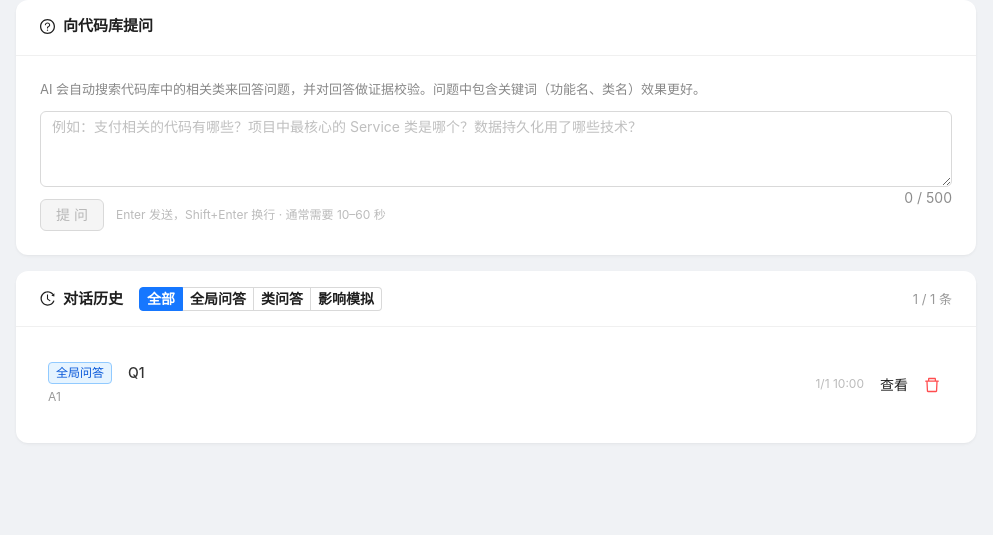
Test case: ProjectInsights › historyFilter_whenNoMatch_shouldRenderEmptyHistoryAndKeepTotalCount
The width and height of the screenshot is (993, 535).
Click the radio button labelled "类问答": click(282, 299) [254,287,311,311]
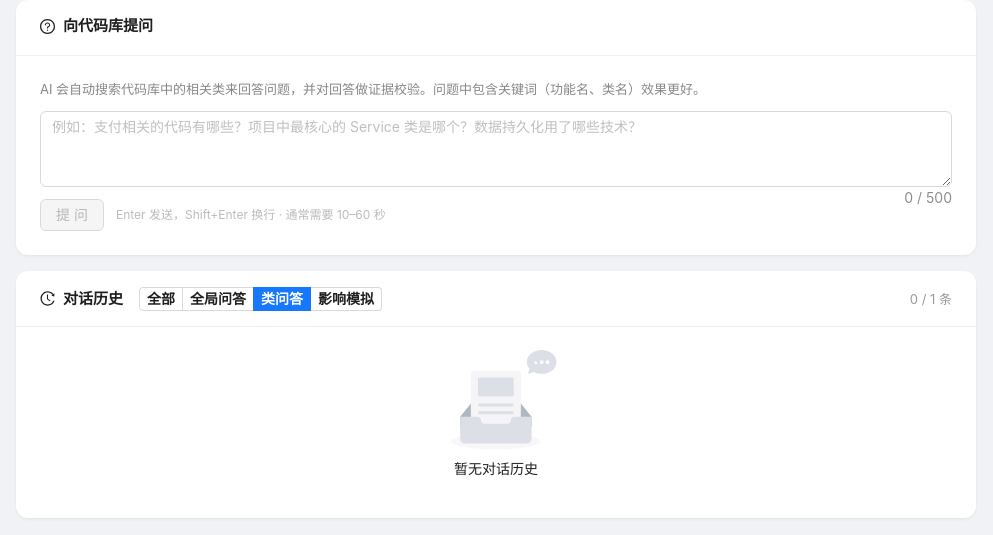
Expected: no elements with class "history-item" are shown
Expected: the text "暂无对话历史" is shown, [454,460,538,477]
Expected: the text with class "history-count" reads "0 / 1 条", [910,291,952,307]
